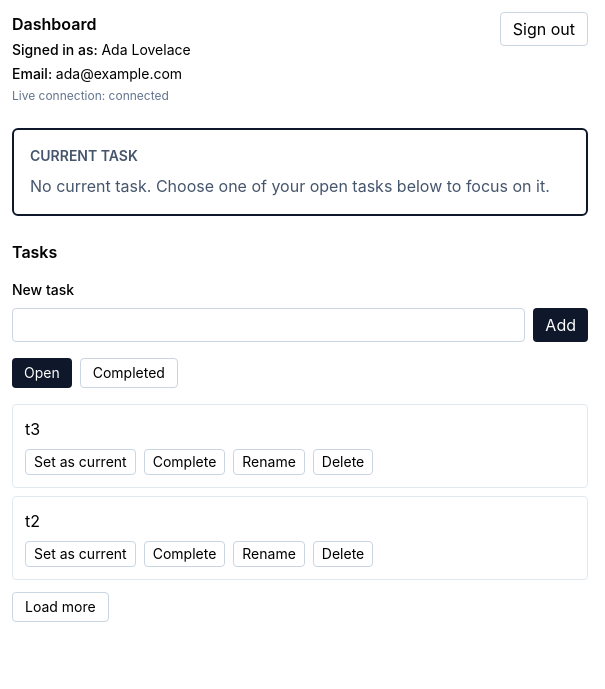
Test: dashboard tasks › pages through tasks with Load more
Check: the list item "t1" is not shown
Step 1. Click the button "Load more" → {"x": 60, "y": 607}, box [12,592,109,622]
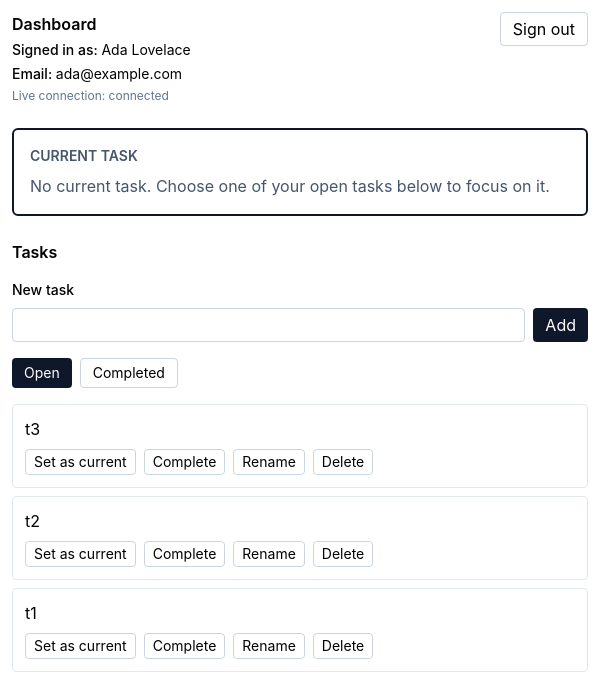
Check: the list item "t1" is shown, box [12,588,588,672]
Check: the button "Load more" is gone
